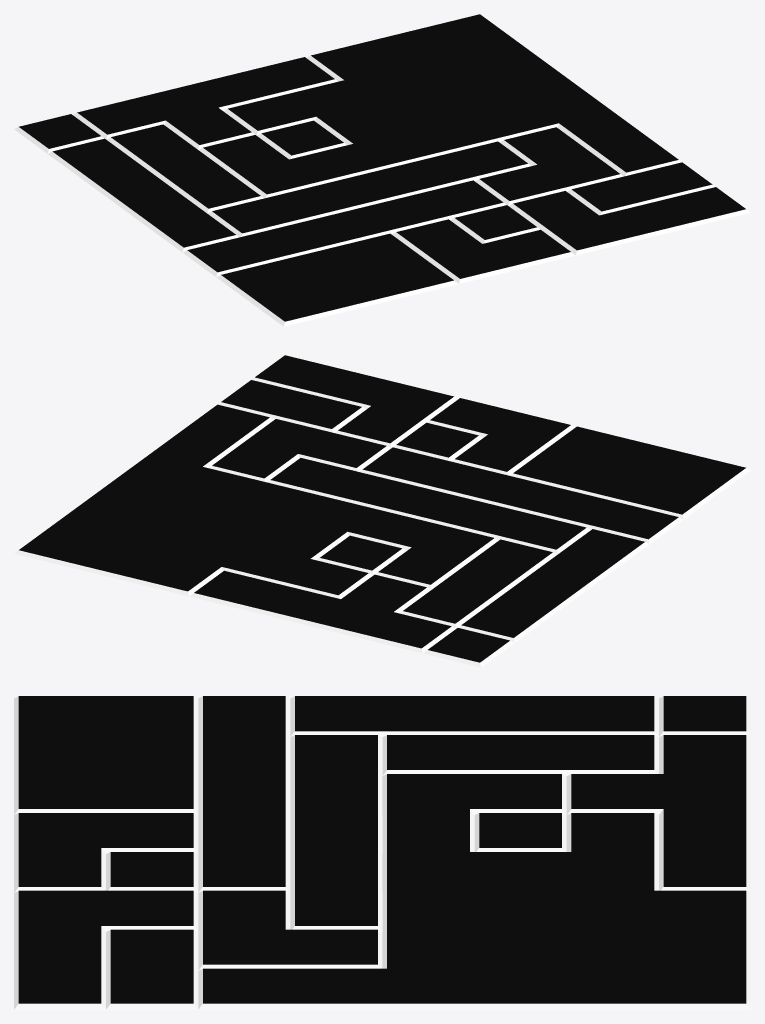
The picture shows the model from 3 angles, top to bottom: view 1: azimuth 30°, elevation 25°; view 2: azimuth 150°, elevation 25°; view 3: azimuth 270°, elevation 25°; orthographic projection. The views are drawn at different scales.
Visible parts, largest first — view 1: Cyberpunk Square Tile.002; view 2: Cyberpunk Square Tile.002; view 3: Cyberpunk Square Tile.002.
Part boxes in pixels (x1,y1,x2,y2): Cyberpunk Square Tile.002: (14, 14, 750, 326); Cyberpunk Square Tile.002: (14, 355, 750, 667); Cyberpunk Square Tile.002: (14, 696, 750, 1009).
Bounding box in the file's own units: 0.7964 × 0.005 × 0.7964.
Materials: 1 (1 with a texture image).
